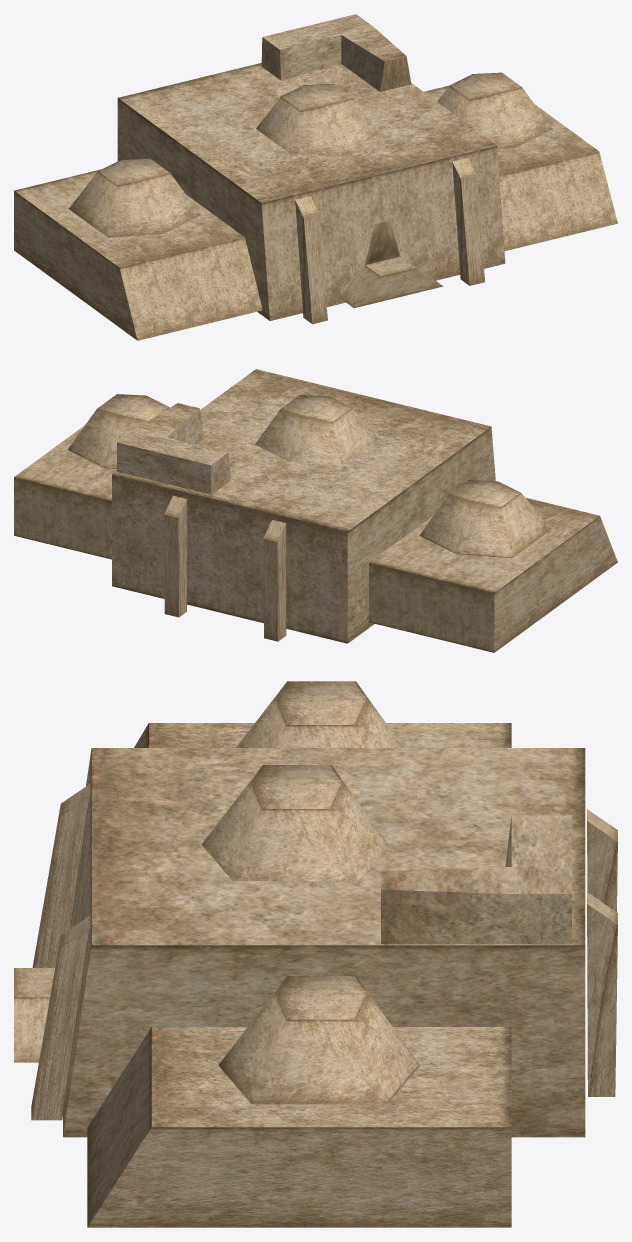
File: thm_tato_assoc_hall_civ_s02_r0_mesh_l2.fbx
The picture shows the model from 3 angles, top to bottom: view 1: azimuth 30°, elevation 25°; view 2: azimuth 150°, elevation 25°; view 3: azimuth 270°, elevation 25°; orthographic projection. The views are drawn at different scales.
Visible parts, largest first — view 1: mesh_node; view 2: mesh_node; view 3: mesh_node.
Part boxes in pixels (x1,y1,x2,y2): mesh_node: [14, 14, 617, 340]; mesh_node: [14, 369, 617, 652]; mesh_node: [14, 681, 617, 1227].
Bounding box in the file's own units: 53.21 × 16.35 × 33.76.
Materials: 1 (1 with a texture image).
